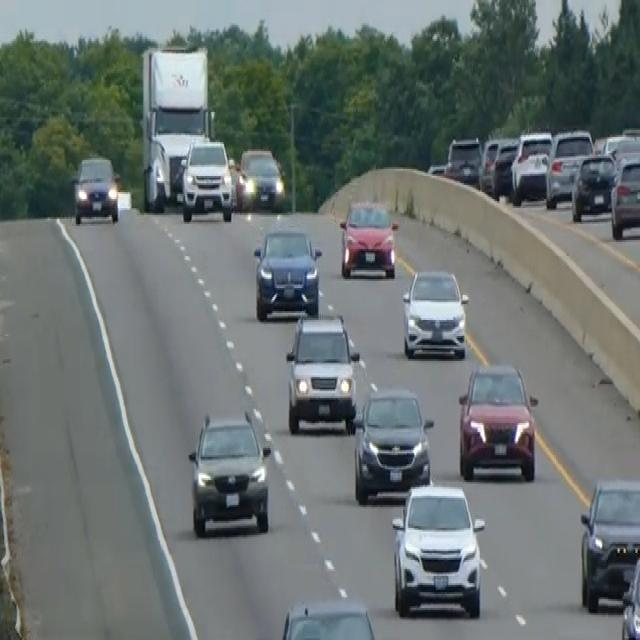car: (187, 407, 271, 537), (457, 359, 538, 482), (352, 386, 434, 503), (284, 309, 360, 434), (578, 474, 639, 612), (252, 224, 321, 320), (401, 265, 469, 359), (338, 196, 399, 279), (180, 137, 233, 222), (544, 126, 594, 208), (278, 598, 378, 638), (72, 153, 119, 224), (570, 150, 616, 220), (510, 128, 552, 204), (235, 146, 284, 210), (609, 149, 639, 240), (478, 135, 518, 197), (444, 133, 482, 185), (620, 542, 639, 638)
jeep: (389, 478, 486, 620)
lorry: (139, 45, 213, 212)
